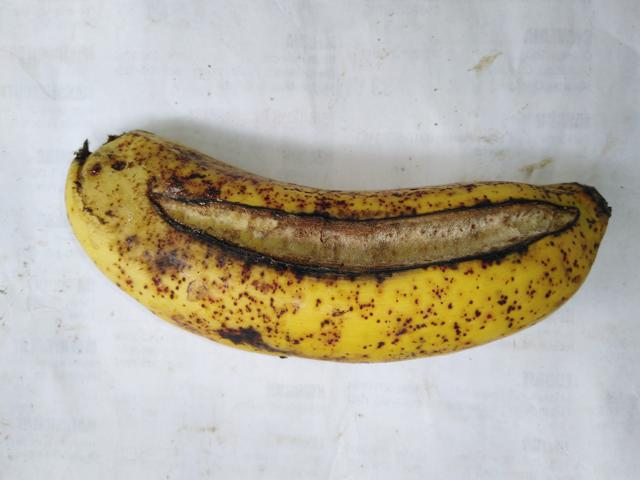rotten: (125, 135, 588, 309)
